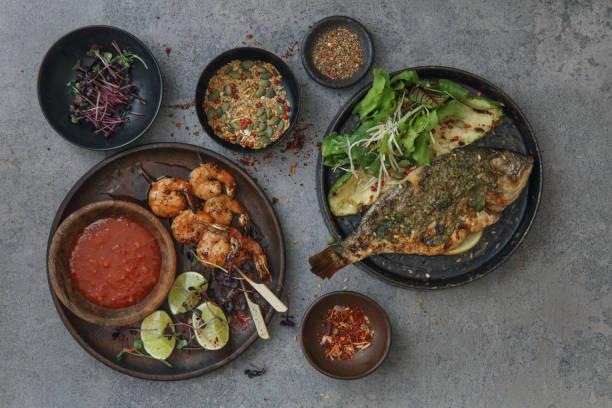Braised Crucian Carp: (45, 142, 282, 380), (317, 66, 536, 288), (35, 24, 162, 150), (194, 46, 299, 153)
